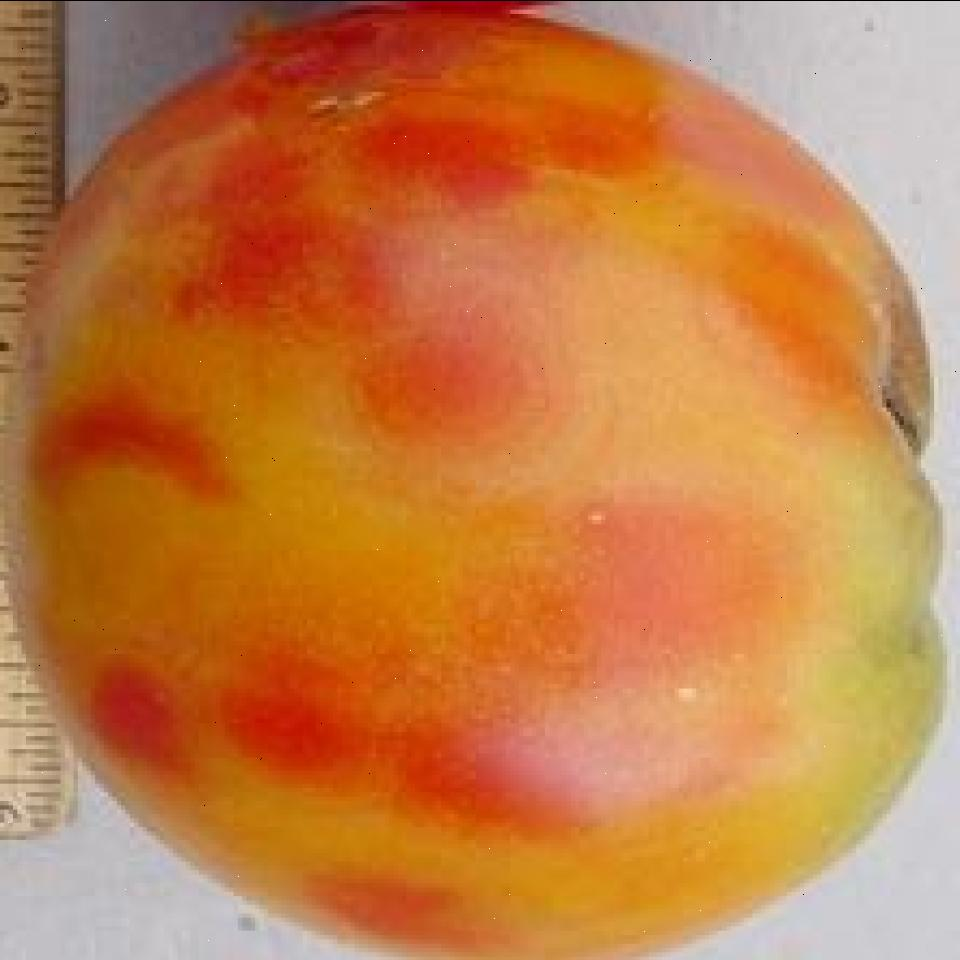Spotted wilt Virus: (22, 9, 956, 960)
